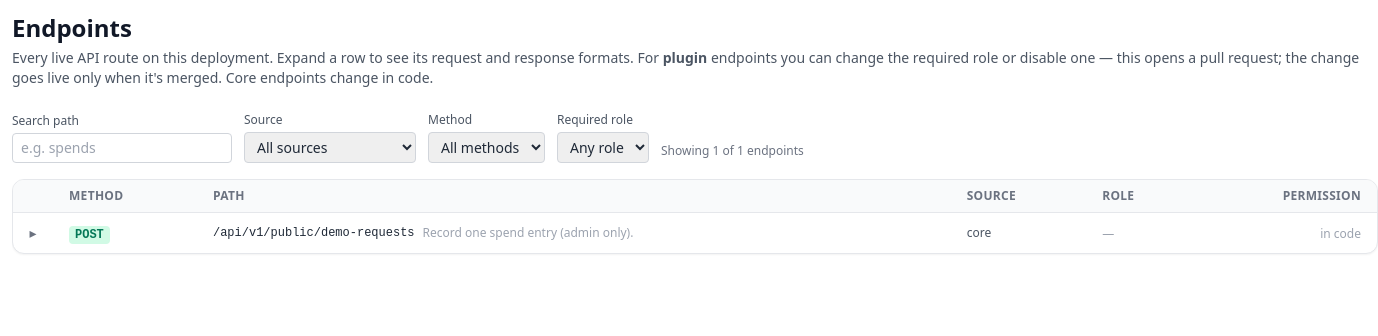
Scenario: EndpointsPage › shows a one-line summary and the full description on expand
Expected: the text "Record one spend entry (admin only)." is shown, [423,225,633,241]
Expected: the text "Record one spend entry (admin only). Written by something that confirms things." is not shown
Click the button named "Show details" at (33, 233), box [21,221,45,245]
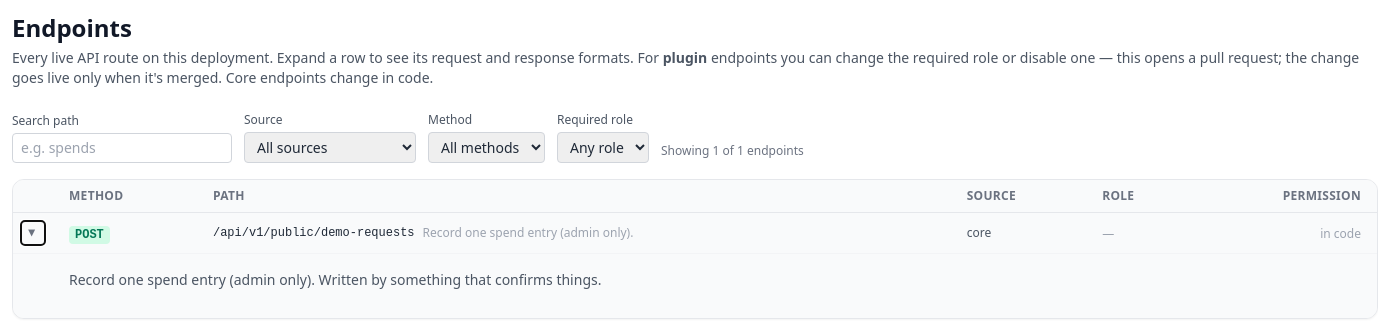
Expected: the text "Record one spend entry (admin only). Written by something that confirms things." is shown, [69,270,602,289]
